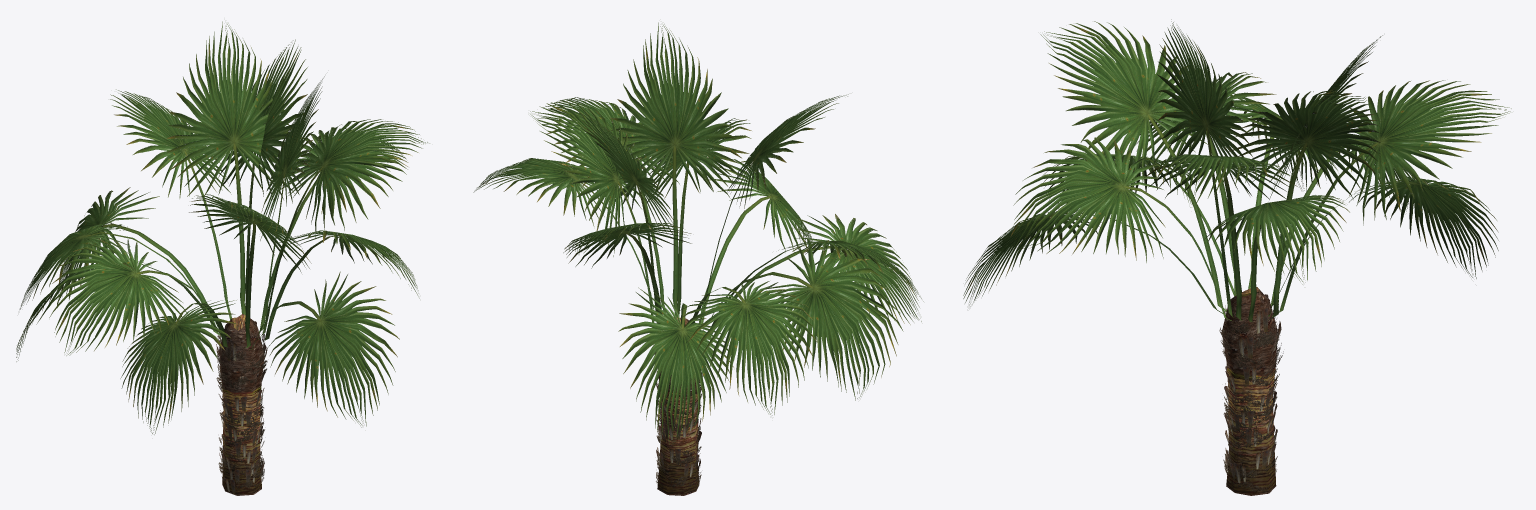
The model's file is Windmill_Palm.fbx.
3 views of the same model, side by side, from view 1: azimuth 30°, elevation 25°; view 2: azimuth 150°, elevation 25°; view 3: azimuth 270°, elevation 25° (orthographic). The views are drawn at different scales.
Visible parts, largest first — view 1: LOD0; view 2: LOD0; view 3: LOD0.
Boxes of the visible parts, <box> form: LOD0: <box>16,21,429,495</box>; LOD0: <box>473,22,923,495</box>; LOD0: <box>963,19,1511,495</box>.
Size of what is drawn, in the model's own units: 15.38 by 15.45 by 15.7.
